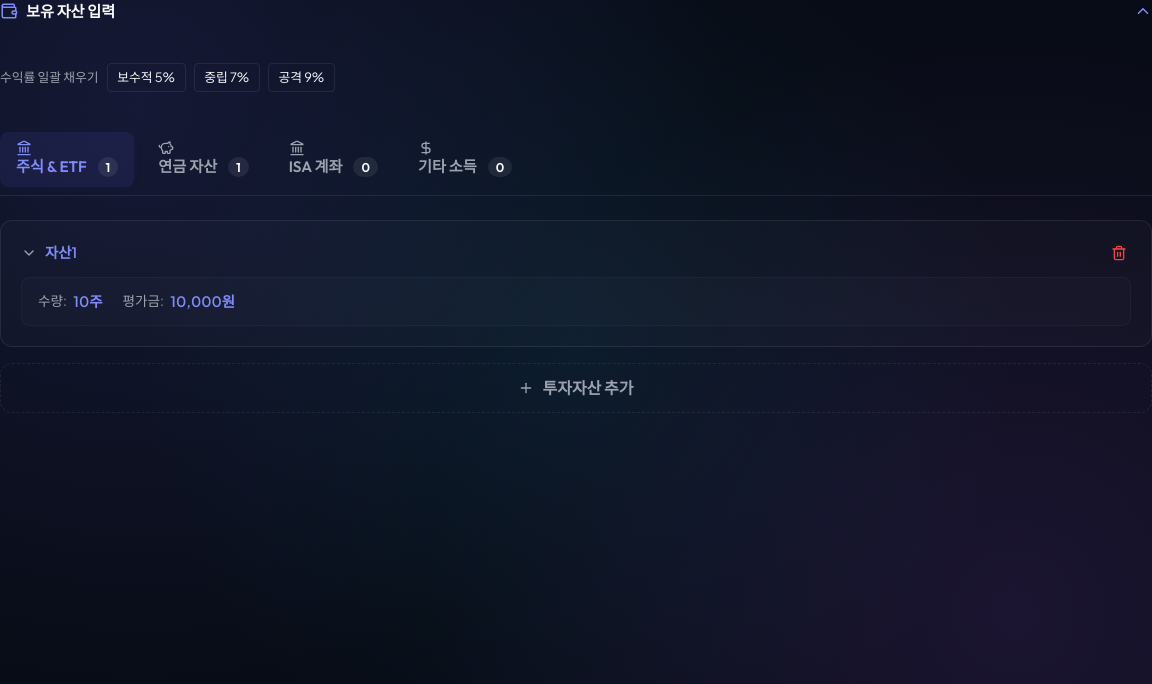
Test case: AssetFormSection - 수익률 입력은 전략에 잠기지 않는다 › 리스크 성향이 custom이어도 연 총수익률 입력은 열려 있고 안내 문구가 없다
The image size is (1152, 684).
Click the text "자산1" at (61, 253), box x1=45 y1=242 x2=77 y2=264
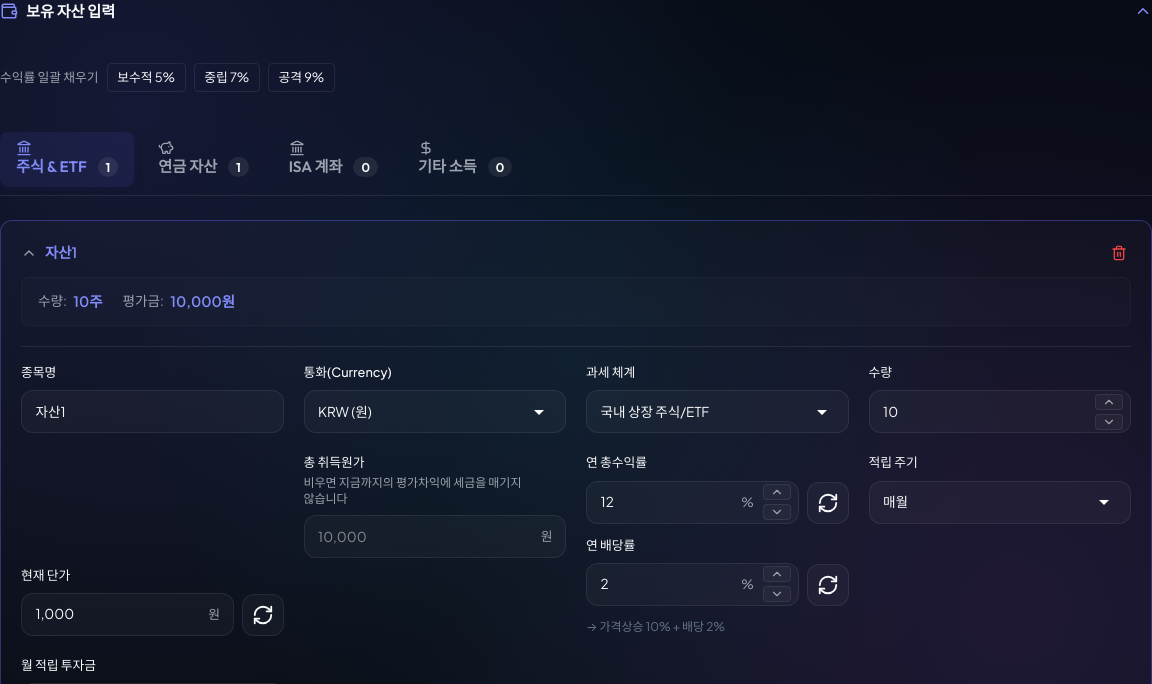
Now the number field labelled "연 총수익률" is enabled, box x1=586 y1=480 x2=798 y2=524
